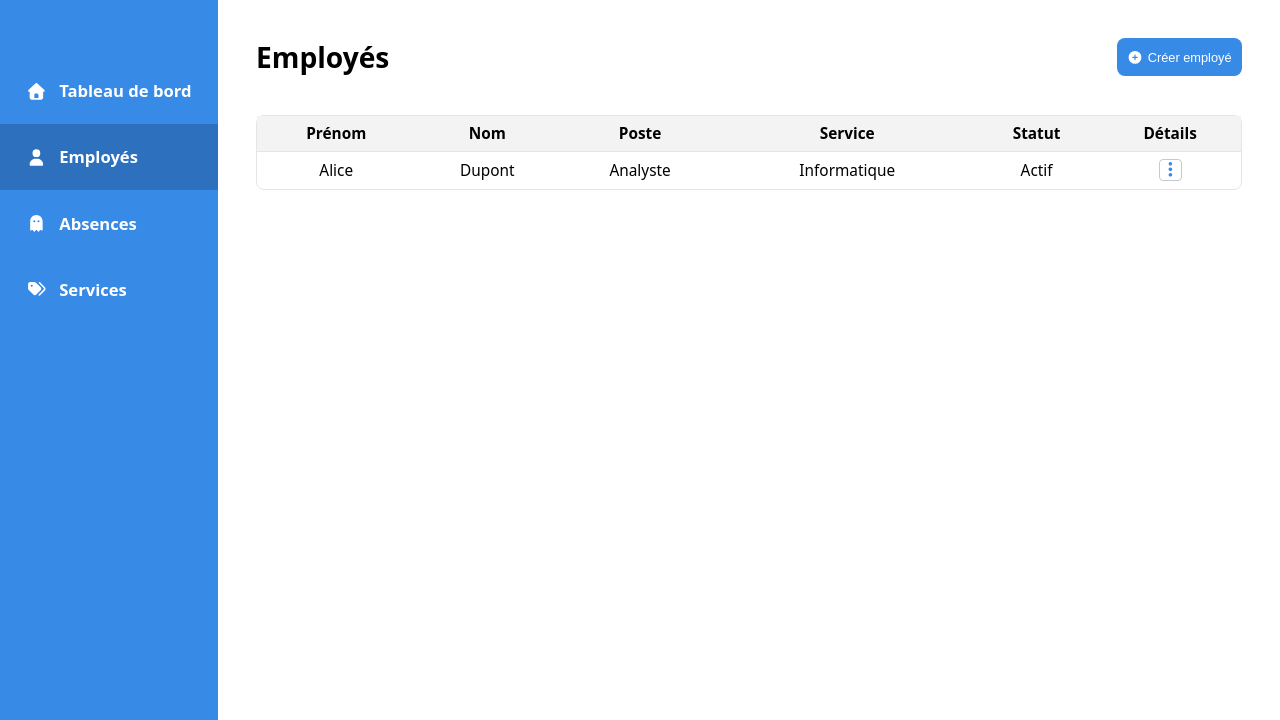
Test case: Création d'un employé › envoie les données attendues et affiche l'employé créé
Expected: the text "Alice" is shown, left=257, top=151, right=416, bottom=189
Click the button with class "create-button" at (1180, 57), box left=1117, top=38, right=1242, bottom=76
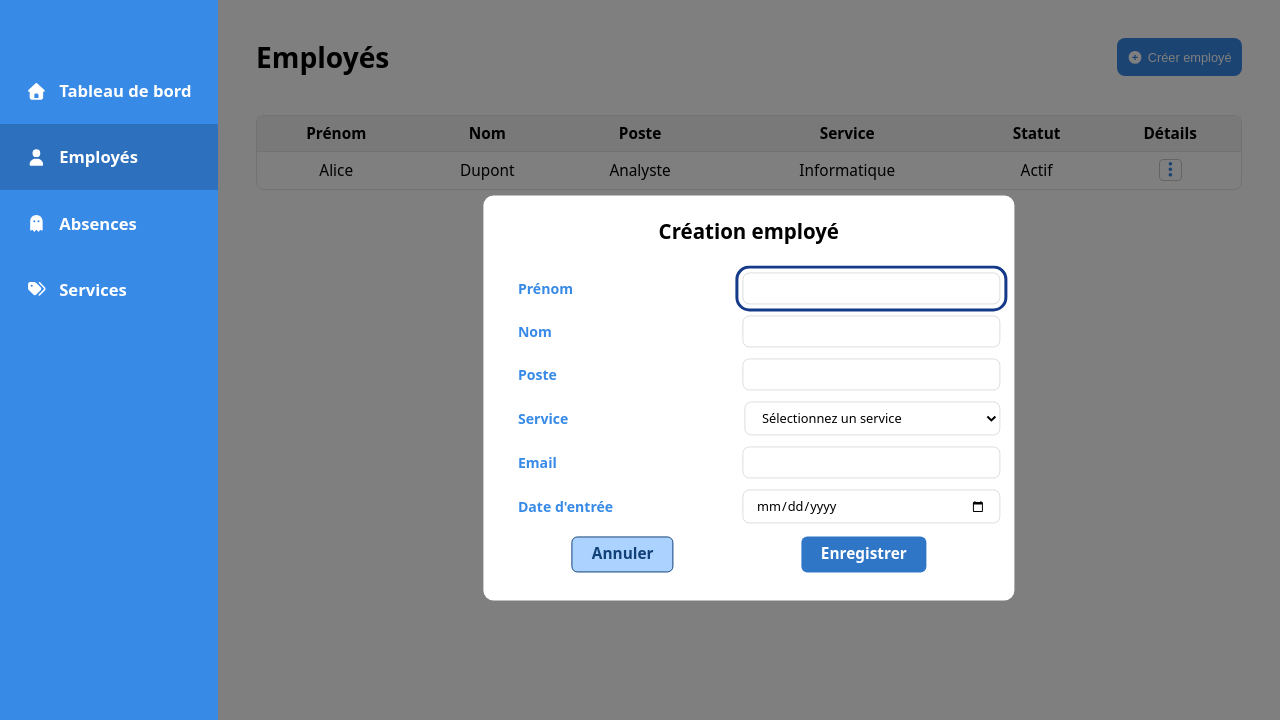
Type "Jean" into the field named "firstName" at (871, 289), box left=742, top=273, right=1000, bottom=305
Type "Dupuis" into the field named "lastName" at (871, 332), box left=742, top=316, right=1000, bottom=348
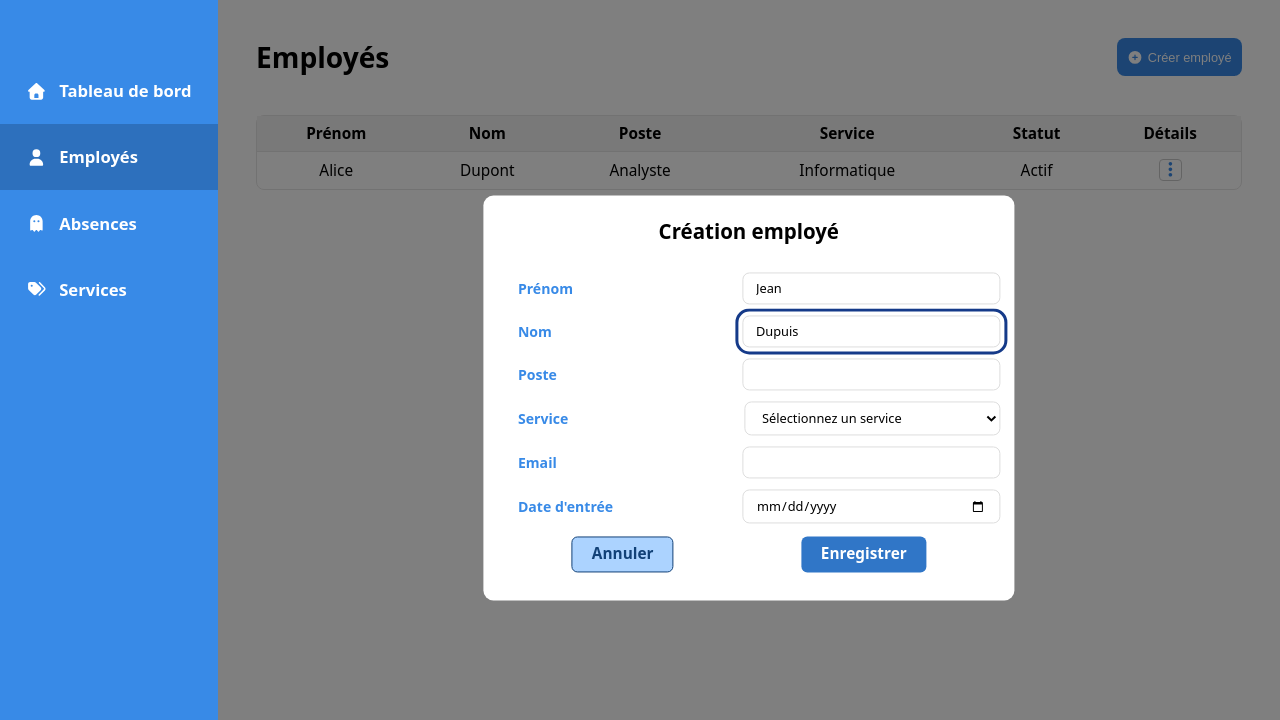
Type "Comptable" into the field named "position" at (871, 375), box left=742, top=359, right=1000, bottom=391
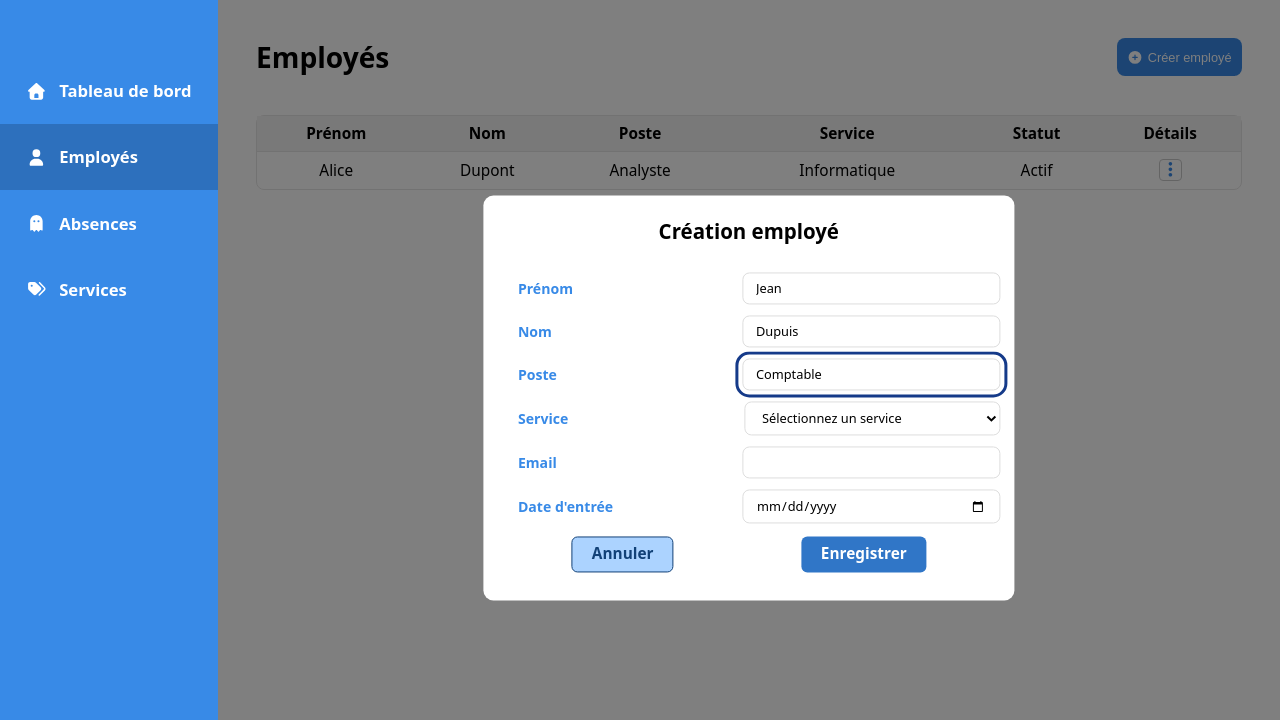
Select "Finance" in the dropdown named "service" at (872, 419), box left=744, top=402, right=1000, bottom=436
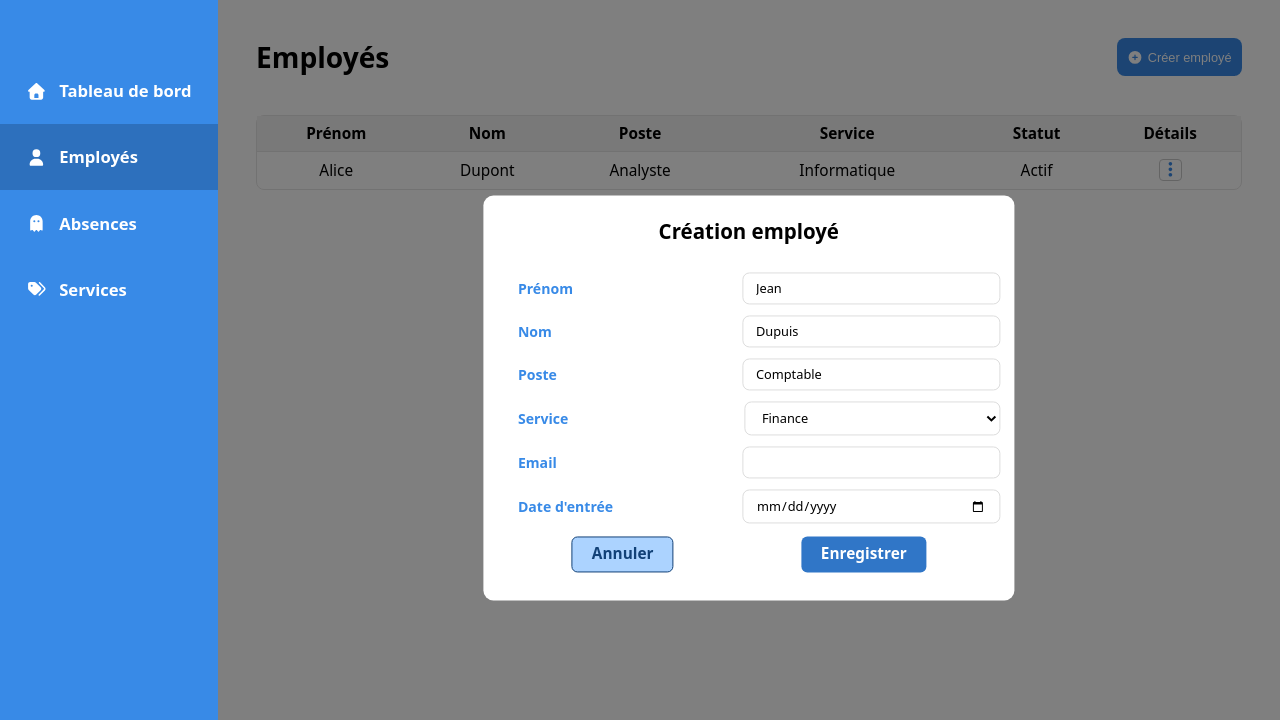
Type "jean.dupuis@example.test" into the field named "email" at (871, 463), box left=742, top=447, right=1000, bottom=479
Type "2022-02-07" into the date field named "entryDate" at (871, 507), box left=742, top=490, right=1000, bottom=524
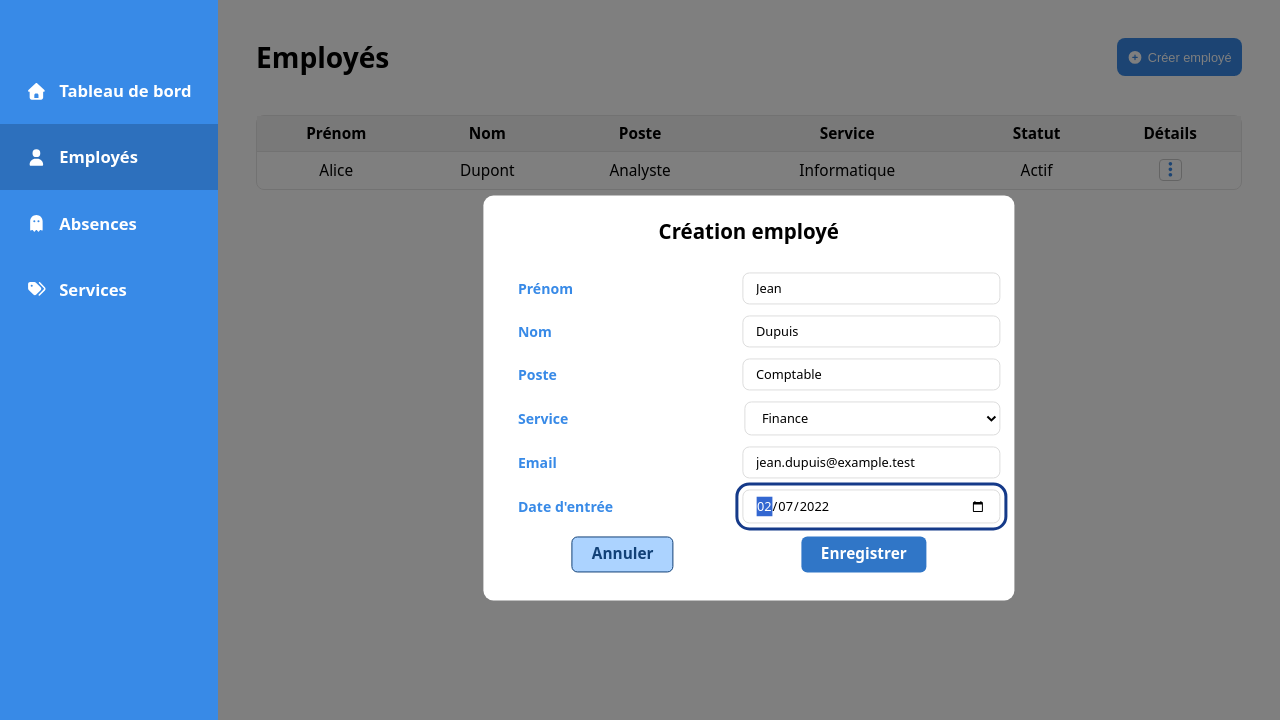
Click the submit button at (864, 554), box left=802, top=536, right=926, bottom=572
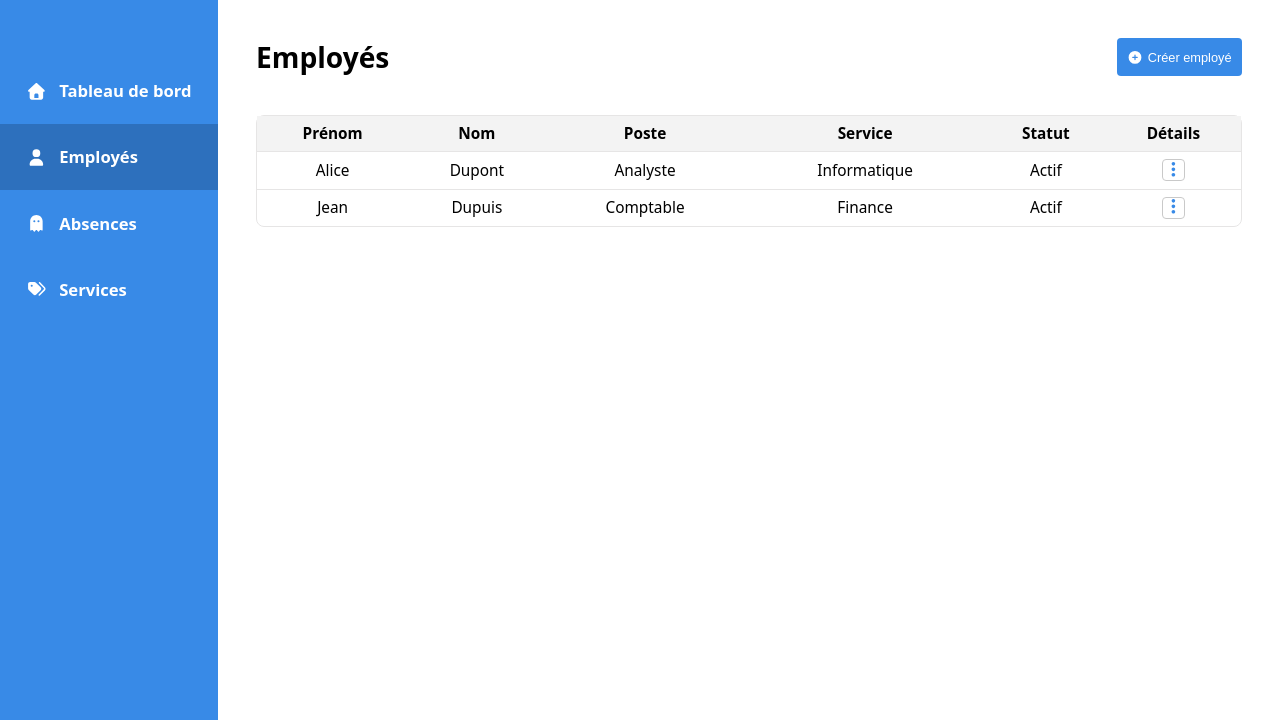
Expected: the text "Jean" is shown, left=257, top=188, right=408, bottom=226
Expected: the text "Dupuis" is shown, left=408, top=188, right=546, bottom=226
Expected: the text "Comptable" is shown, left=546, top=188, right=745, bottom=226
